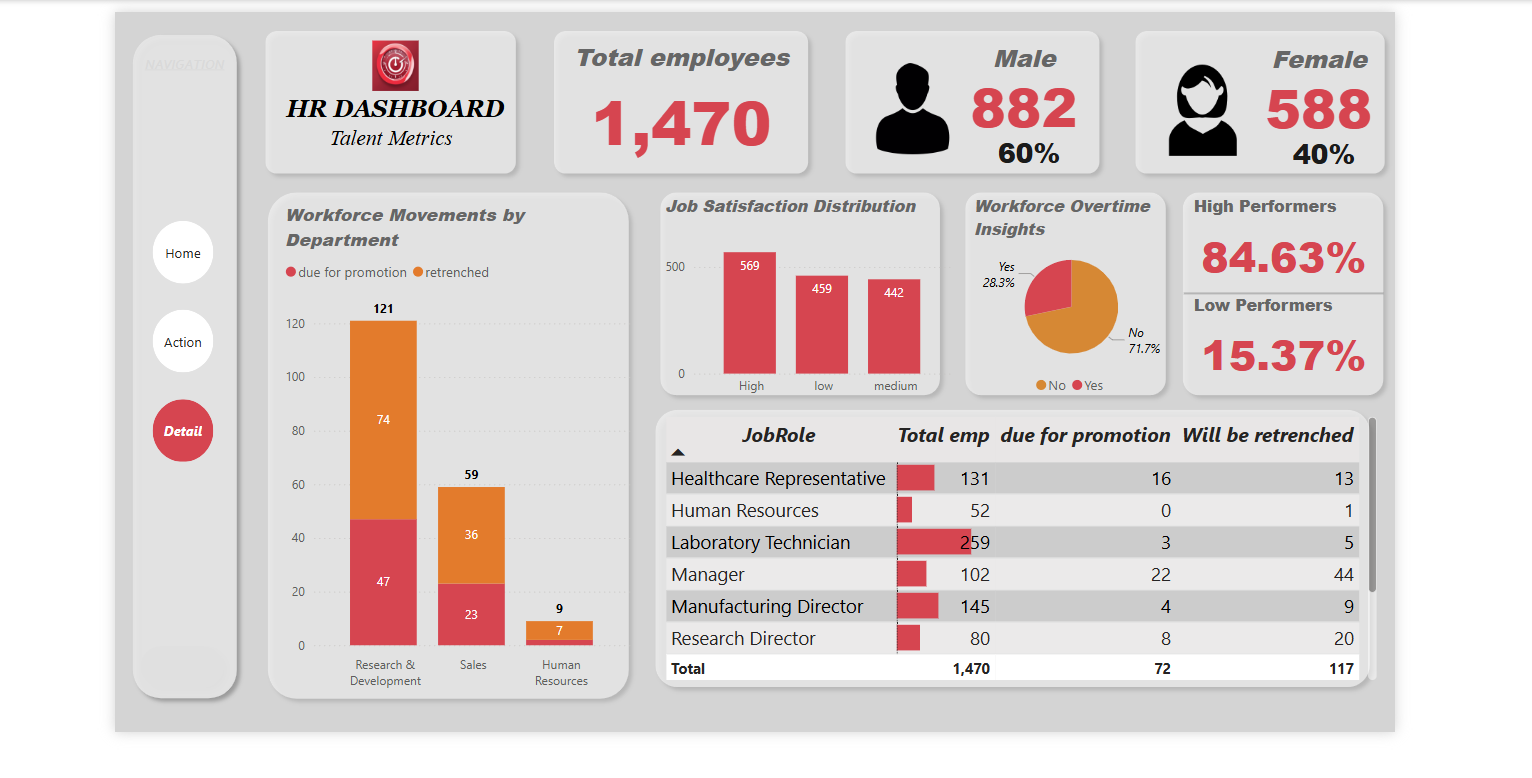

The dashboard page shown, as its layout file describes it:
{"tool":"powerbi","page":{"name":"Detail","canvas":[1280,720],"ordinal":2},"visuals":[{"type":"shape","box":[8.1,14,122.1,681.4],"z":0,"group":"g4"},{"type":"card","title":"Male","fields":{"Values":["All measure.male"]},"box":[838.4,29.1,140.7,94.2],"z":0,"group":"g2"},{"type":"card","title":"Female","fields":{"Values":["All measure.female"]},"box":[1134.2,29.8,140.7,94.2],"z":0,"group":"g3"},{"type":"textbox","box":[150,77.9,260.5,45.3],"z":0,"group":"g1"},{"type":"shape","box":[141.9,10.5,268.6,160.5],"z":1000},{"type":"card","title":"Male","fields":{"Values":["All measure.% male"]},"box":[843.1,95.4,140.7,94.2],"z":1000,"group":"g2"},{"type":"card","title":"Male","fields":{"Values":["All measure.% female"]},"box":[1138.9,96.1,140.7,94.2],"z":1000,"group":"g3"},{"type":"textbox","box":[169.8,109.3,212.8,43],"z":1000,"group":"g1"},{"type":"shape","box":[430.2,10.5,272.1,160.5],"z":2000},{"type":"shape","box":[720.9,10.5,272.1,160.5],"z":3000},{"type":"shape","box":[1011.6,10.5,267.4,160.5],"z":4000},{"type":"image","box":[252.3,23.3,55.8,60.5],"z":5000},{"type":"card","title":"Total employees","fields":{"Values":["All measure.Total emp"]},"box":[437.2,27.9,258.1,126.7],"z":6000},{"type":"image","box":[1037.2,46.5,101.2,103.5],"z":7000},{"type":"image","box":[743,46.5,110.5,101.2],"z":8000},{"type":"group","id":"g1","title":"Group 4","box":[150,77.9,260.5,74.4],"z":9000},{"type":"group","id":"g2","title":"Group 2","box":[838.4,29.1,145.3,160.5],"z":10000},{"type":"group","id":"g3","title":"Group 3","box":[1134.2,29.8,145.3,160.5],"z":11000},{"type":"shape","box":[144.2,170.9,379.1,524.4],"z":12000},{"type":"columnChart","title":" Workforce Movements by Department","fields":{"Category":["HR Analytics Data.Department"],"Y":["All measure.due for promotion","All measure.retrenched"]},"box":[165.1,189.5,357,494.2],"z":13000},{"type":"shape","box":[536,170.9,297.7,220.9],"z":14000},{"type":"shape","box":[840.7,170.9,218.6,220.9],"z":15000},{"type":"shape","box":[1059.3,170.9,218.6,220.9],"z":16000},{"type":"shape","box":[1068.6,259.3,200,45.3],"z":17000},{"type":"columnChart","title":"Job Satisfaction Distribution","fields":{"Category":["HR Analytics Data.Job Satisfaction"],"Y":["All measure.Total emp"]},"box":[545.4,182.6,297.7,209.3],"z":18000},{"type":"pieChart","title":"Workforce Overtime Insights","fields":{"Category":["HR Analytics Data.OverTime"],"Y":["All measure.Total emp"]},"box":[853.5,182.6,205.8,209.3],"z":19000},{"type":"shape","box":[531.4,388.4,732.6,295.3],"z":20000},{"type":"tableEx","fields":{"Values":["HR Analytics Data.JobRole","All measure.Total emp","All measure.due for promotion","All measure.retrenched"]},"box":[545.4,400,722.1,273.3],"z":21000},{"type":"card","title":"High Performers","fields":{"Values":["All measure.% high rate"]},"box":[1073.3,182.6,190.7,98.8],"z":22000},{"type":"card","title":"Low Performers","fields":{"Values":["All measure.% low rate"]},"box":[1073.3,281.4,190.7,98.8],"z":23000},{"type":"textbox","box":[5.8,37.2,126.7,31.4],"z":24000},{"type":"shape","box":[16.3,624.4,101.2,59.3],"z":25000},{"type":"pageNavigator","title":"IUV","box":[36.3,208.7,61.2,243.9],"z":25001,"group":"g4"},{"type":"group","id":"g4","title":"Group 1","box":[8.1,14,122.1,681.4],"z":25002}]}

Visuals, with their boxes on the page's 1280x720 design canvas (x1, y1, x2, y2). These are canvas units, not pixel positions in the 1532x778 screenshot, which may show the page scaled, cropped or inside an application window:
shape: {"left": 8, "top": 14, "right": 130, "bottom": 695}
"Male" card: {"left": 838, "top": 29, "right": 979, "bottom": 123}
"Female" card: {"left": 1134, "top": 30, "right": 1275, "bottom": 124}
textbox: {"left": 150, "top": 78, "right": 410, "bottom": 123}
shape: {"left": 142, "top": 10, "right": 410, "bottom": 171}
"Male" card: {"left": 843, "top": 95, "right": 984, "bottom": 190}
"Male" card: {"left": 1139, "top": 96, "right": 1280, "bottom": 190}
textbox: {"left": 170, "top": 109, "right": 383, "bottom": 152}
shape: {"left": 430, "top": 10, "right": 702, "bottom": 171}
shape: {"left": 721, "top": 10, "right": 993, "bottom": 171}
shape: {"left": 1012, "top": 10, "right": 1279, "bottom": 171}
image: {"left": 252, "top": 23, "right": 308, "bottom": 84}
"Total employees" card: {"left": 437, "top": 28, "right": 695, "bottom": 155}
image: {"left": 1037, "top": 46, "right": 1138, "bottom": 150}
image: {"left": 743, "top": 46, "right": 854, "bottom": 148}
"Group 4" group: {"left": 150, "top": 78, "right": 410, "bottom": 152}
"Group 2" group: {"left": 838, "top": 29, "right": 984, "bottom": 190}
"Group 3" group: {"left": 1134, "top": 30, "right": 1280, "bottom": 190}
shape: {"left": 144, "top": 171, "right": 523, "bottom": 695}
" Workforce Movements by Department" columnChart: {"left": 165, "top": 190, "right": 522, "bottom": 684}
shape: {"left": 536, "top": 171, "right": 834, "bottom": 392}
shape: {"left": 841, "top": 171, "right": 1059, "bottom": 392}
shape: {"left": 1059, "top": 171, "right": 1278, "bottom": 392}
shape: {"left": 1069, "top": 259, "right": 1269, "bottom": 305}
"Job Satisfaction Distribution" columnChart: {"left": 545, "top": 183, "right": 843, "bottom": 392}
"Workforce Overtime Insights" pieChart: {"left": 854, "top": 183, "right": 1059, "bottom": 392}
shape: {"left": 531, "top": 388, "right": 1264, "bottom": 684}
tableEx - HR Analytics Data.JobRole x All measure.Total emp: {"left": 545, "top": 400, "right": 1268, "bottom": 673}
"High Performers" card: {"left": 1073, "top": 183, "right": 1264, "bottom": 281}
"Low Performers" card: {"left": 1073, "top": 281, "right": 1264, "bottom": 380}
textbox: {"left": 6, "top": 37, "right": 132, "bottom": 69}
shape: {"left": 16, "top": 624, "right": 118, "bottom": 684}
"IUV" pageNavigator: {"left": 36, "top": 209, "right": 98, "bottom": 453}
"Group 1" group: {"left": 8, "top": 14, "right": 130, "bottom": 695}
